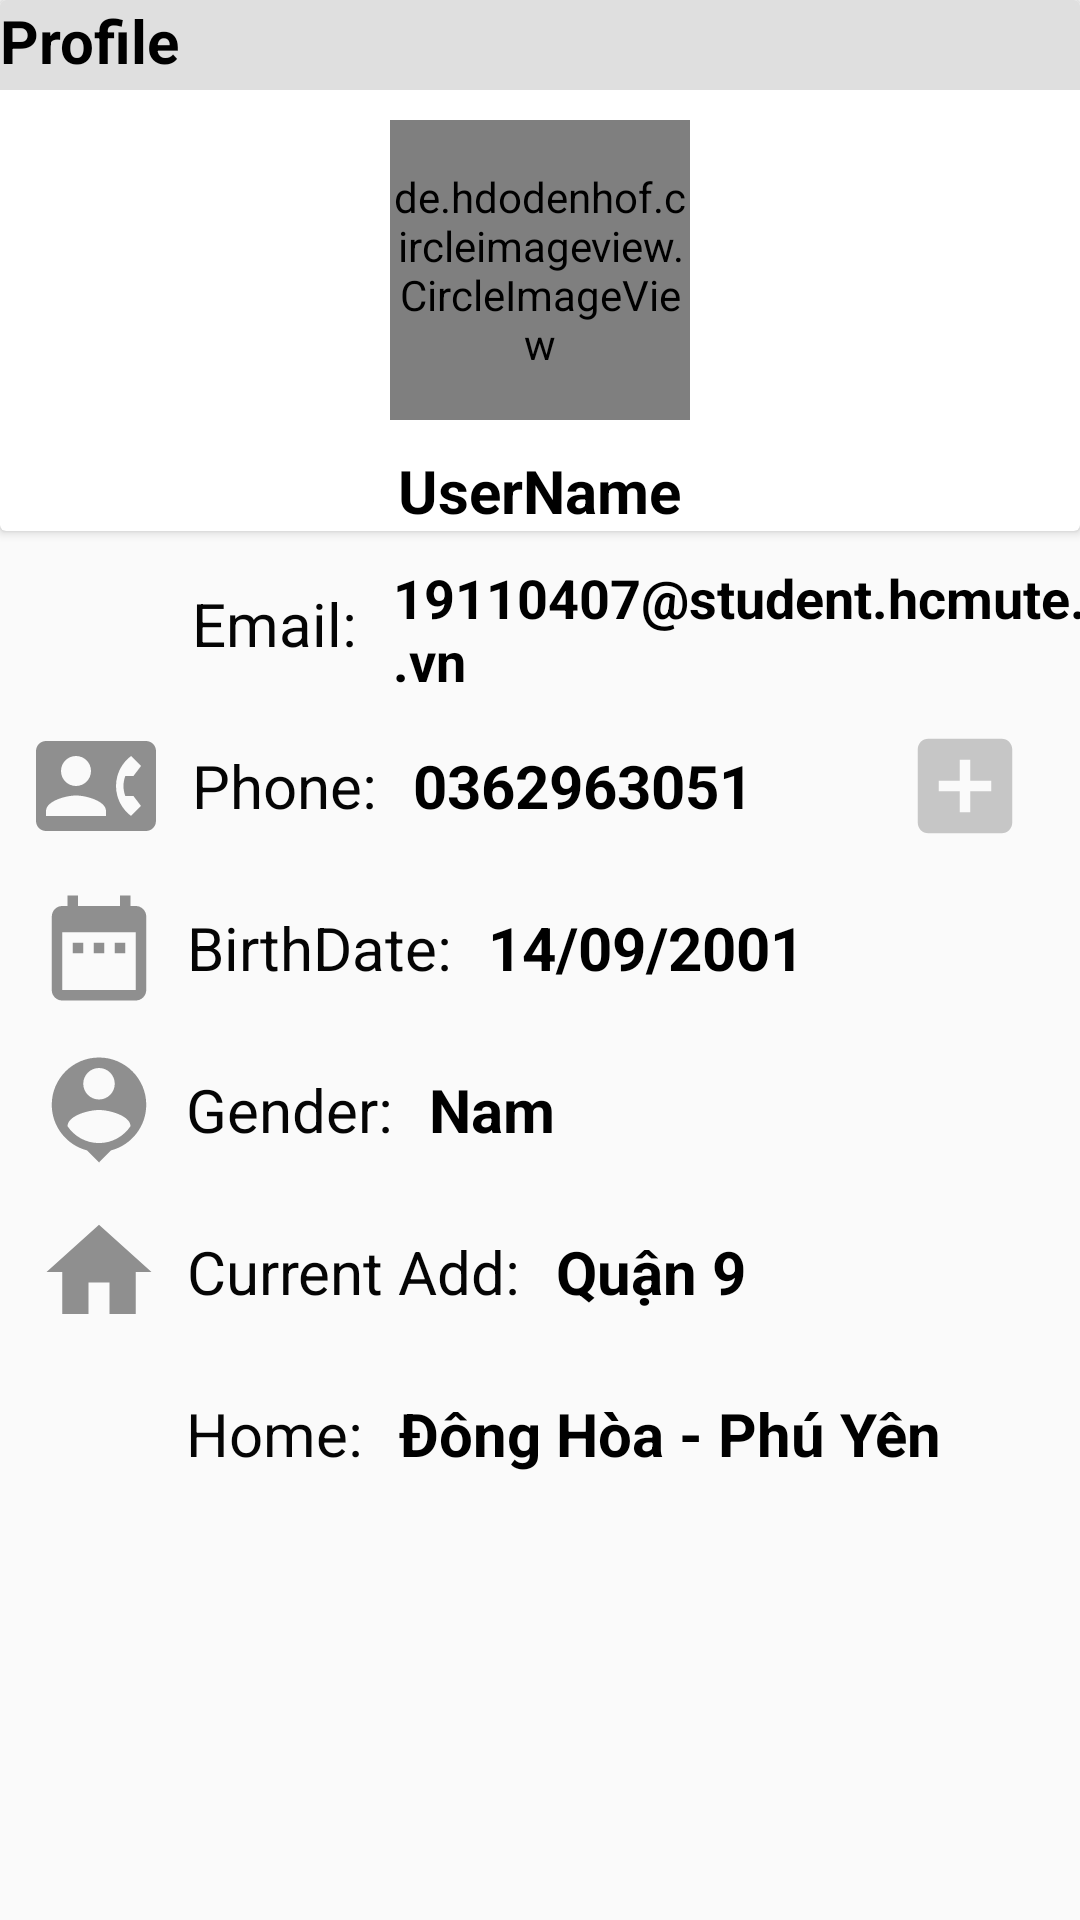

Where icons sit on this 1080w x 1920h app screen, as detection(x1, y1, x2, y2):
add box: detection(918, 739, 1012, 833)
date range: detection(51, 895, 147, 1001)
person pin profile: detection(51, 1057, 147, 1162)
